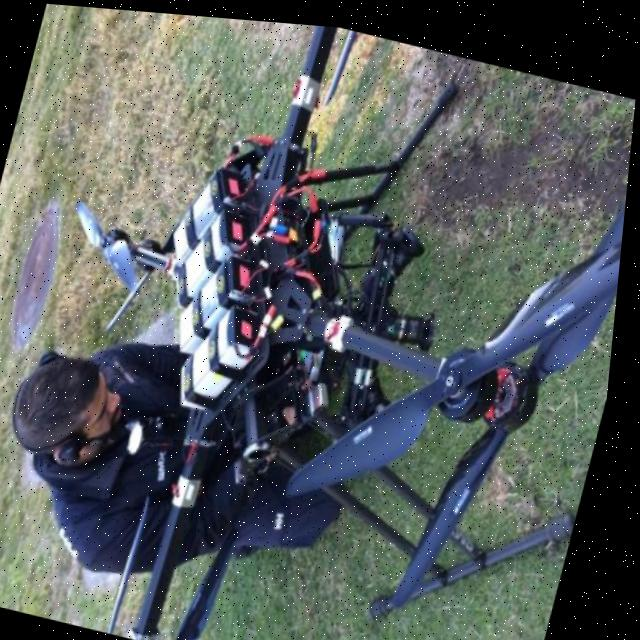drones: (0, 1, 640, 640)
